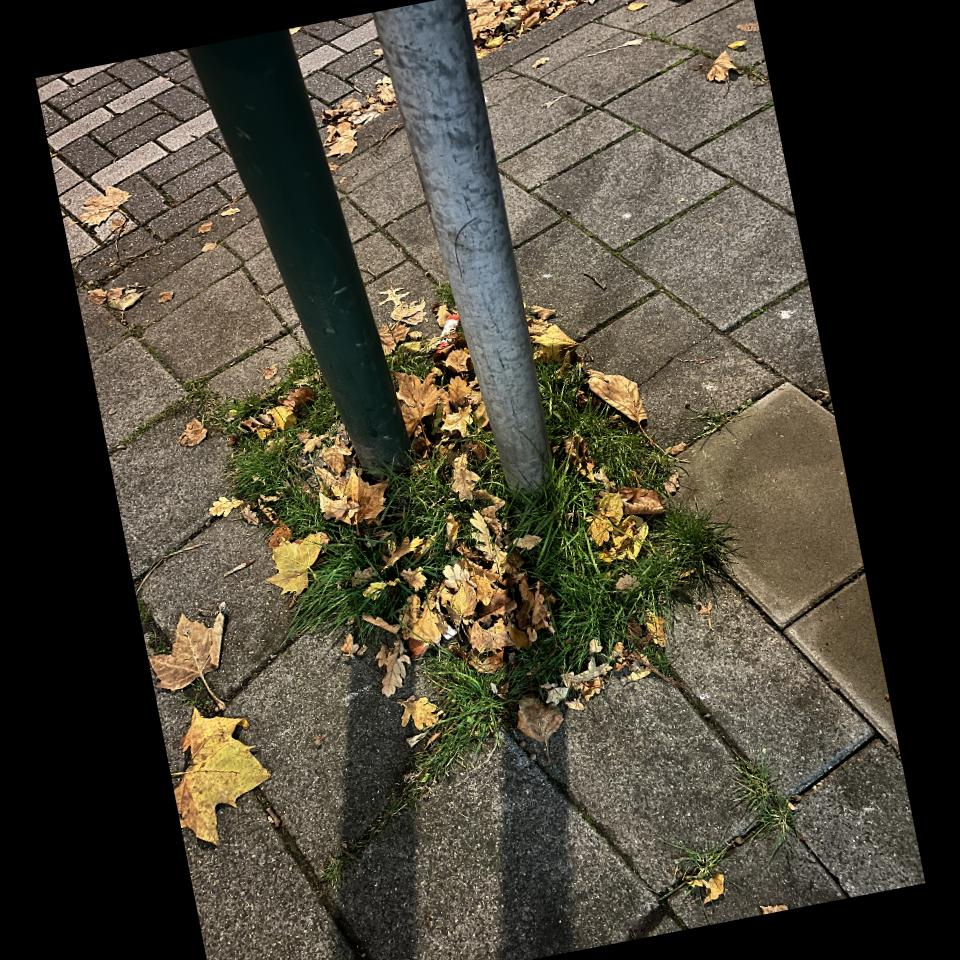weed: (418, 459, 725, 783), (289, 423, 458, 641), (535, 359, 686, 495), (226, 443, 324, 538), (727, 751, 803, 843), (284, 349, 344, 428), (389, 336, 441, 377)
